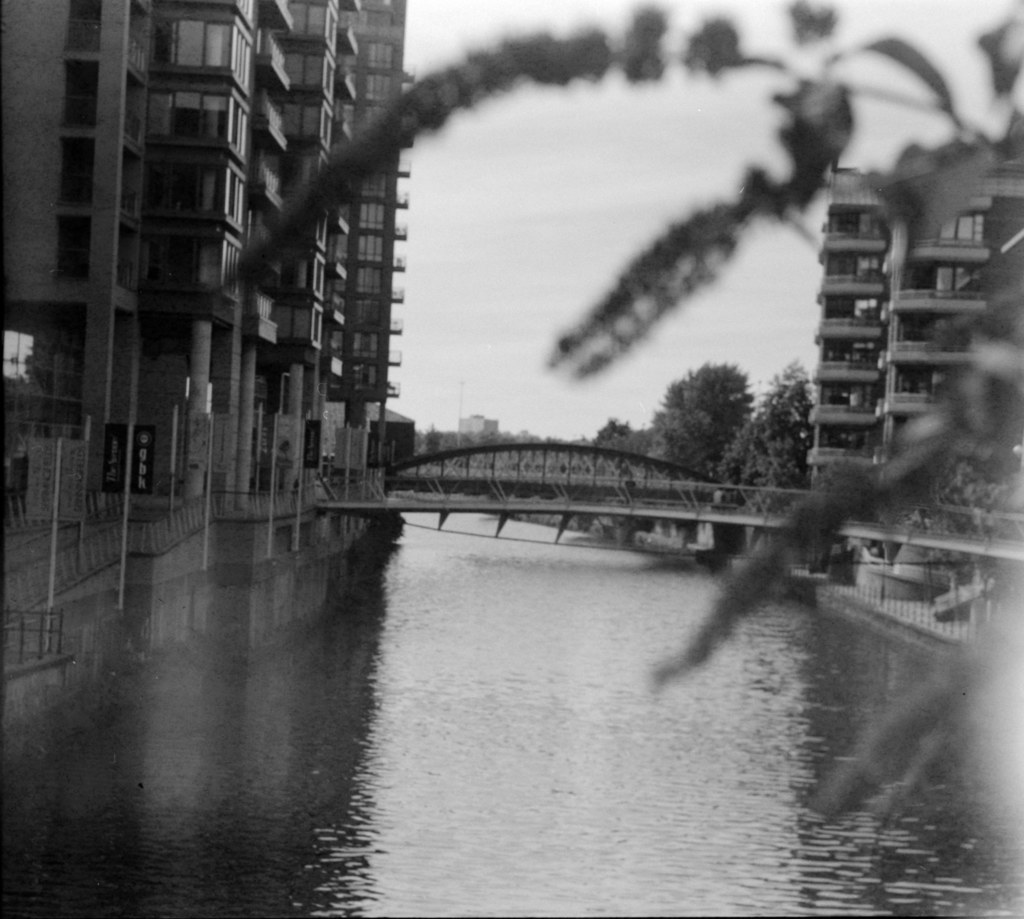Tree: (711, 350, 809, 506), (933, 431, 1023, 546), (592, 413, 636, 453), (420, 420, 458, 462)
